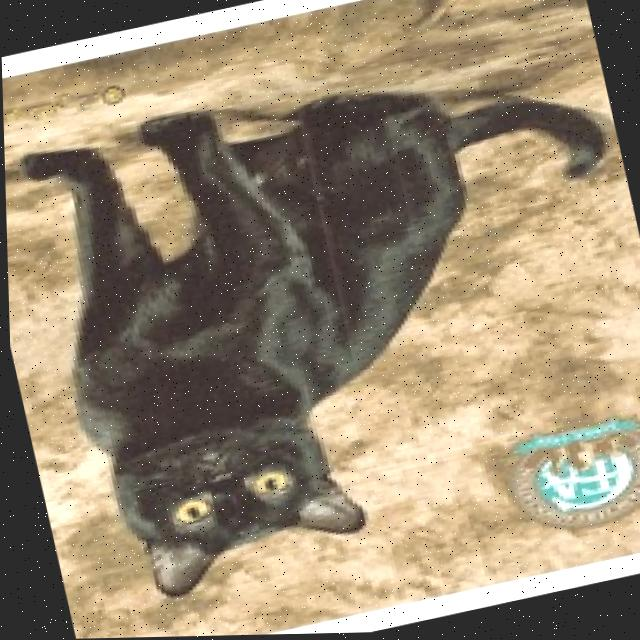Bombay: (7, 23, 640, 616)
